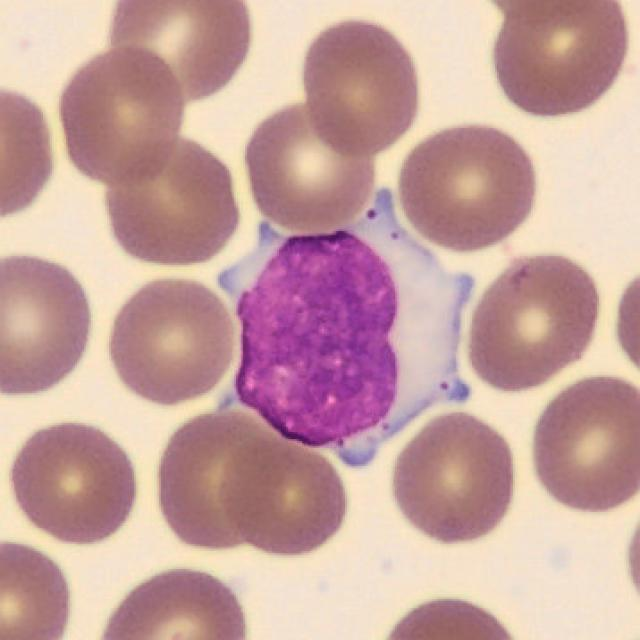Linfocito atipico: (218, 188, 472, 469)
